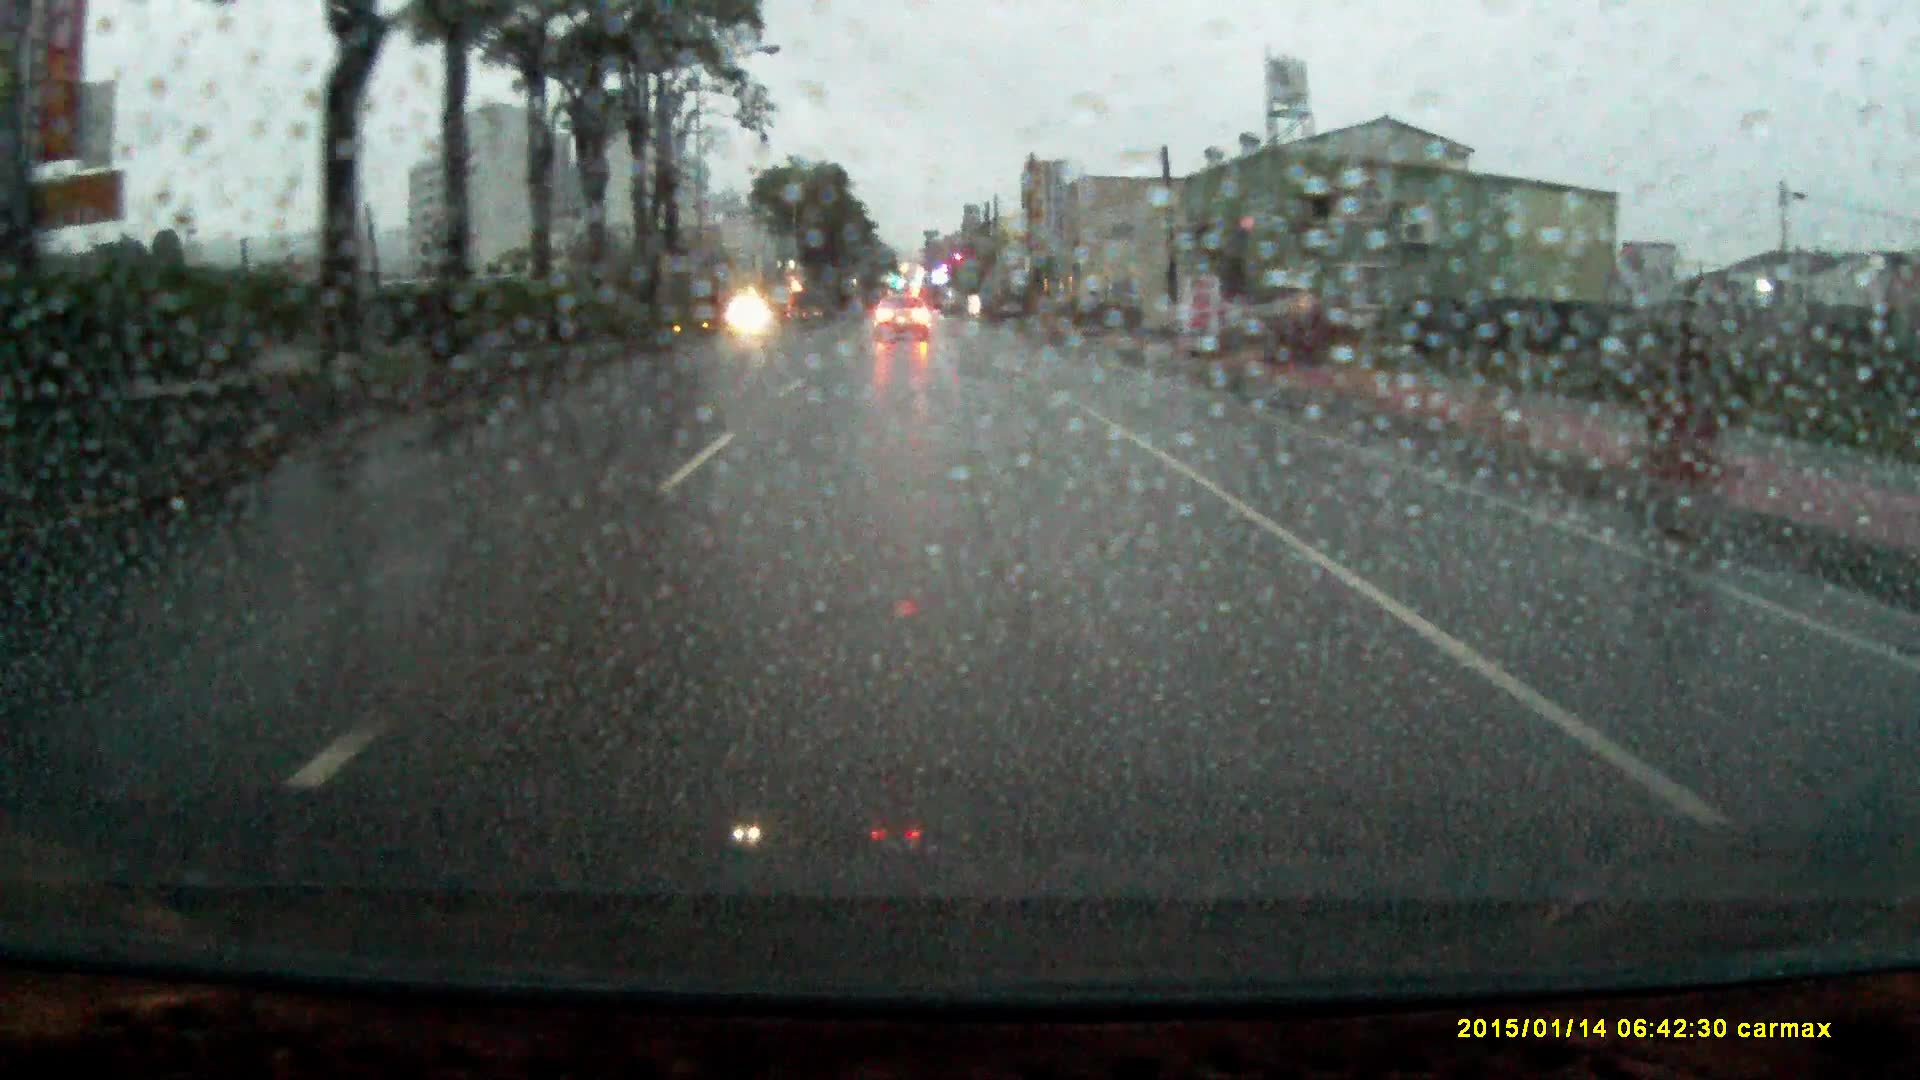vehicle: (876, 301, 934, 345)
